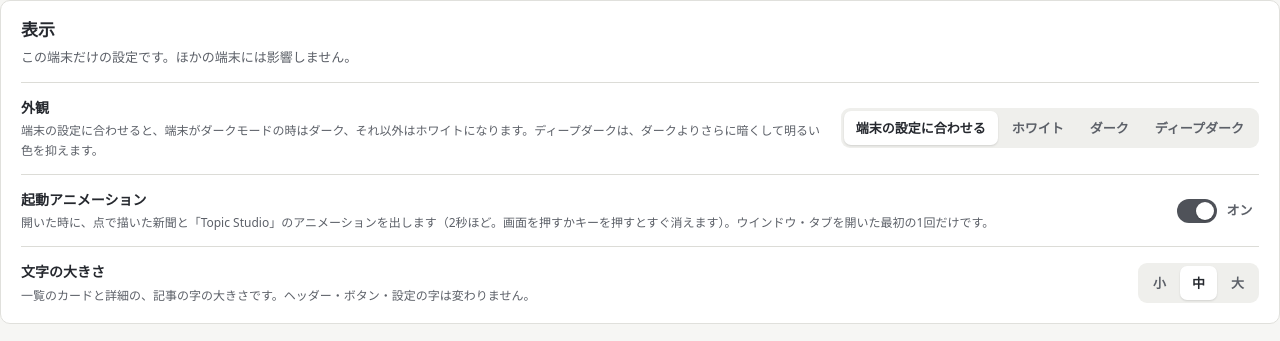
Scenario: DisplaySettings › 外観を押すと選んだ状態になり、この端末（topic-studio:prefs の appearance）に保存する
This screenshot has width=1280, height=341.
Step 1. Click the button with test id "appearance-deep-dark" → (1199, 128), box [1143,111,1256,145]
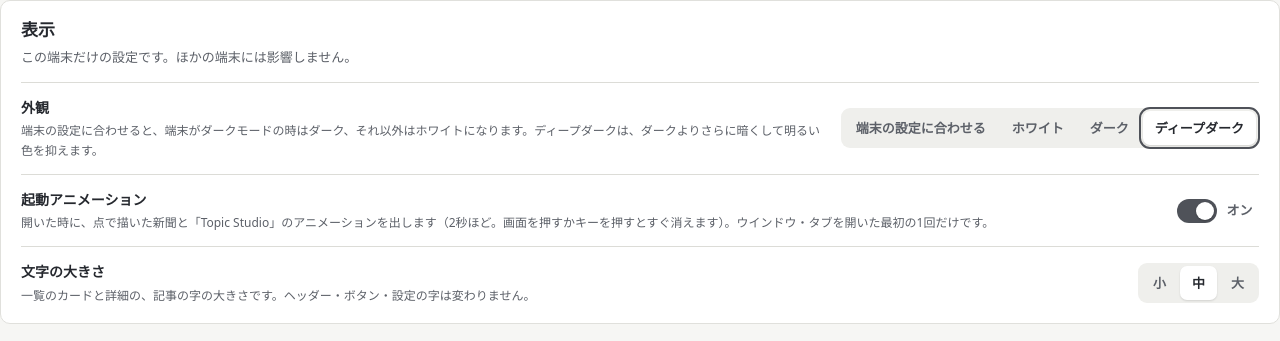
Expected: the button with test id "appearance-deep-dark" is pressed, [1143,111,1256,145]
Step 2. Click the button "ダーク" → (1109, 128), box [1078,111,1141,145]
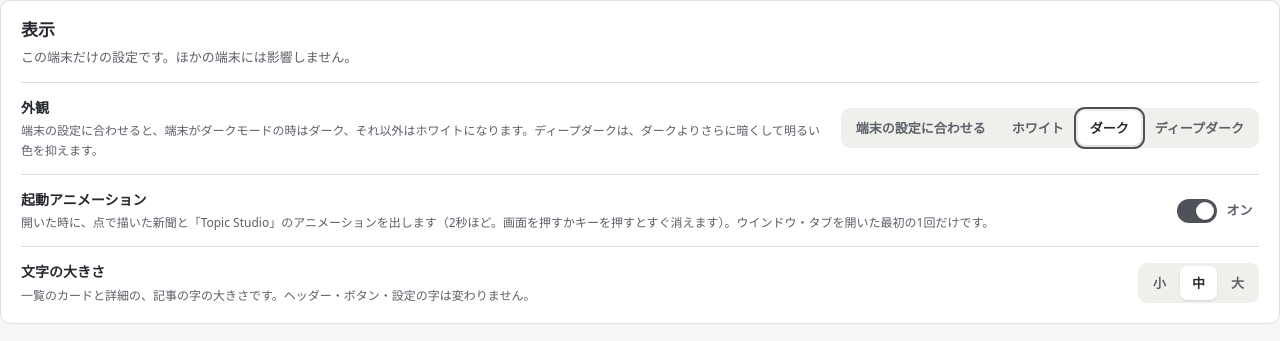
Step 3. Click the button "ホワイト" → (1038, 128), box [1000,111,1076,145]
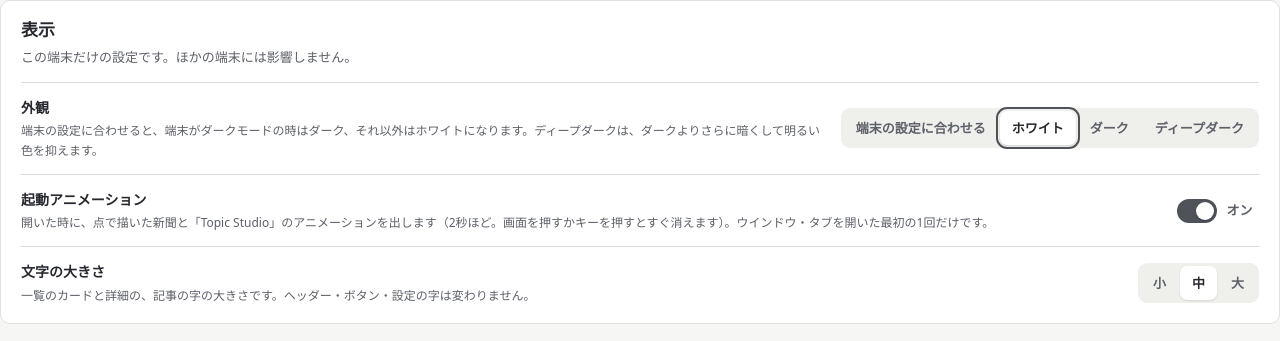
Step 4. Click the button with test id "appearance-system" → (921, 128), box [844,111,998,145]
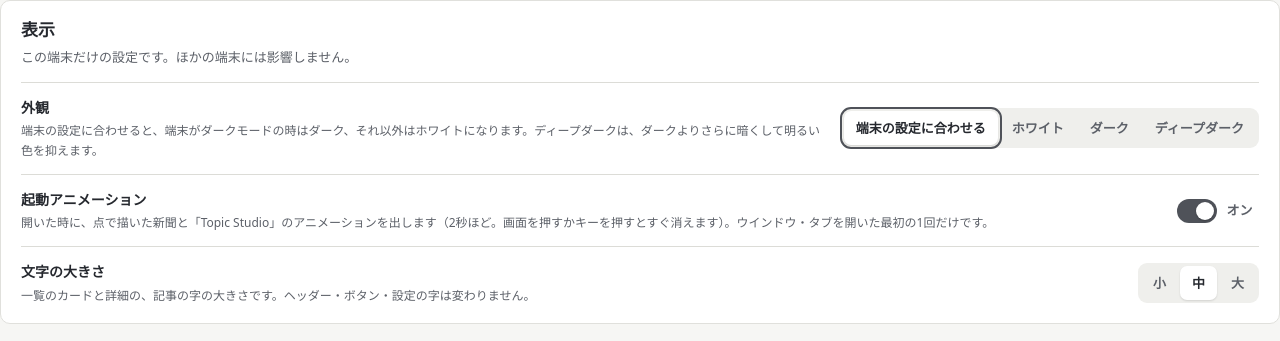
Expected: the button with test id "appearance-system" is pressed, [844,111,998,145]
